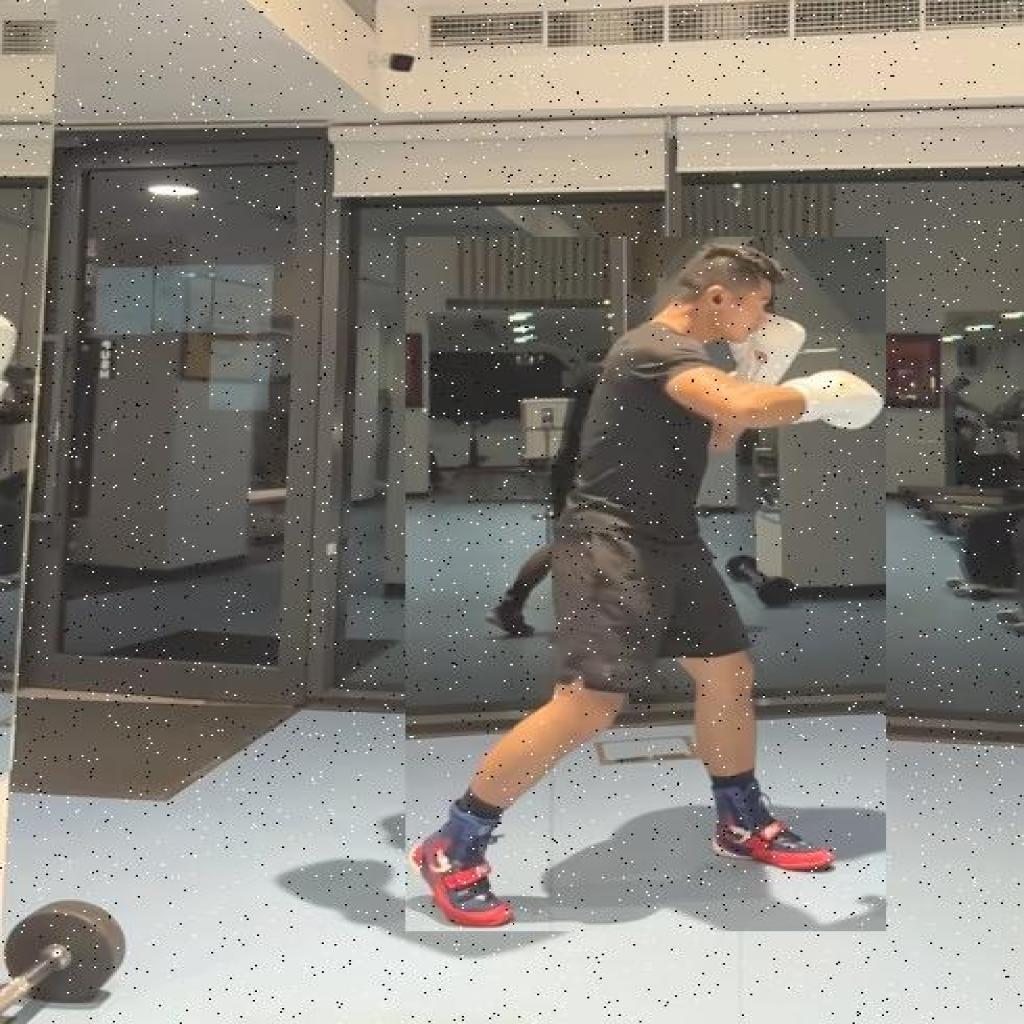hook: (405, 237, 885, 931)
